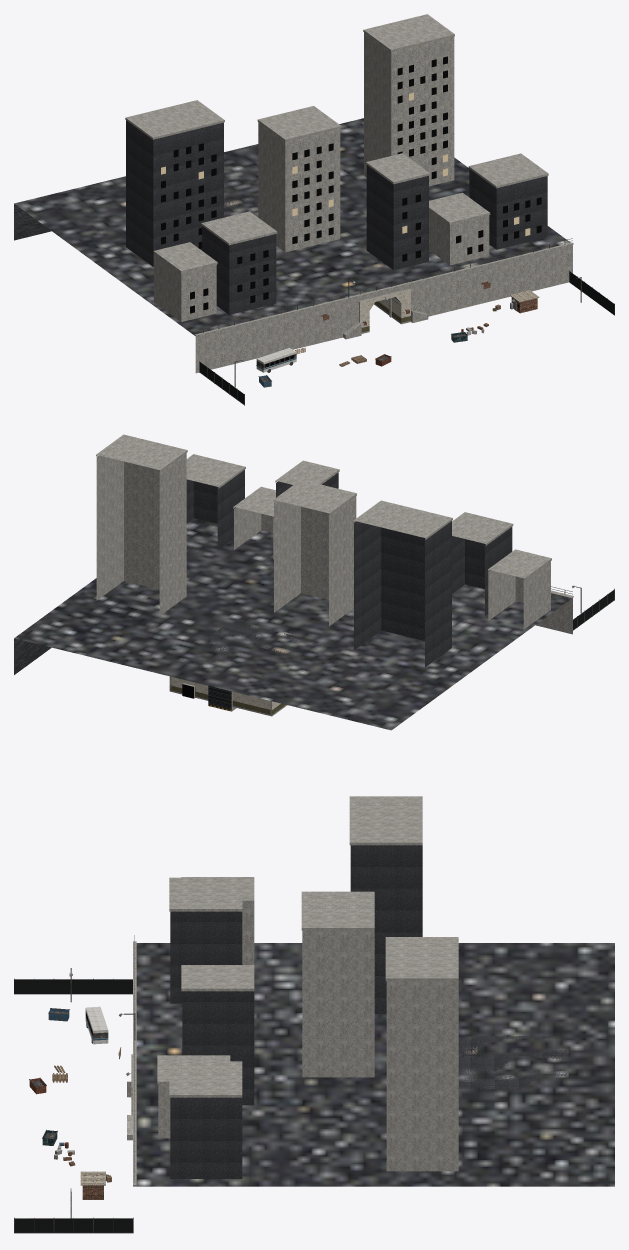
Rendered from StartingStationV3.fbx.
The picture shows the model from 3 angles, top to bottom: view 1: azimuth 30°, elevation 25°; view 2: azimuth 150°, elevation 25°; view 3: azimuth 270°, elevation 25°; orthographic projection. The views are drawn at different scales.
Visible parts, largest first — view 1: City_Backdrop, City_Deck, Portal_Wall, Yard, Station_WireMesh; view 2: City_Backdrop, City_Deck, Station_Shell, Portal_Wall; view 3: City_Deck, City_Backdrop, Station_WireMesh, Yard, Station_Shell, Portal_Wall.
Boxes of the visible parts, x1,y1,x2,y2 form: City_Backdrop: (125,14,548,321); City_Deck: (14,118,570,335); Portal_Wall: (194,238,573,373); Yard: (199,270,614,405); Station_WireMesh: (200,271,614,404); City_Backdrop: (96,434,551,667); City_Deck: (14,518,571,730); Station_Shell: (169,622,318,716); Portal_Wall: (535,586,573,634); City_Deck: (136,943,614,1186); City_Backdrop: (157,796,458,1178); Station_WireMesh: (14,979,132,1233); Yard: (14,968,133,1233); Station_Shell: (458,1036,566,1093); Portal_Wall: (119,935,136,1186).
Bounding box in the file's own units: 96 × 44.66 × 100.
